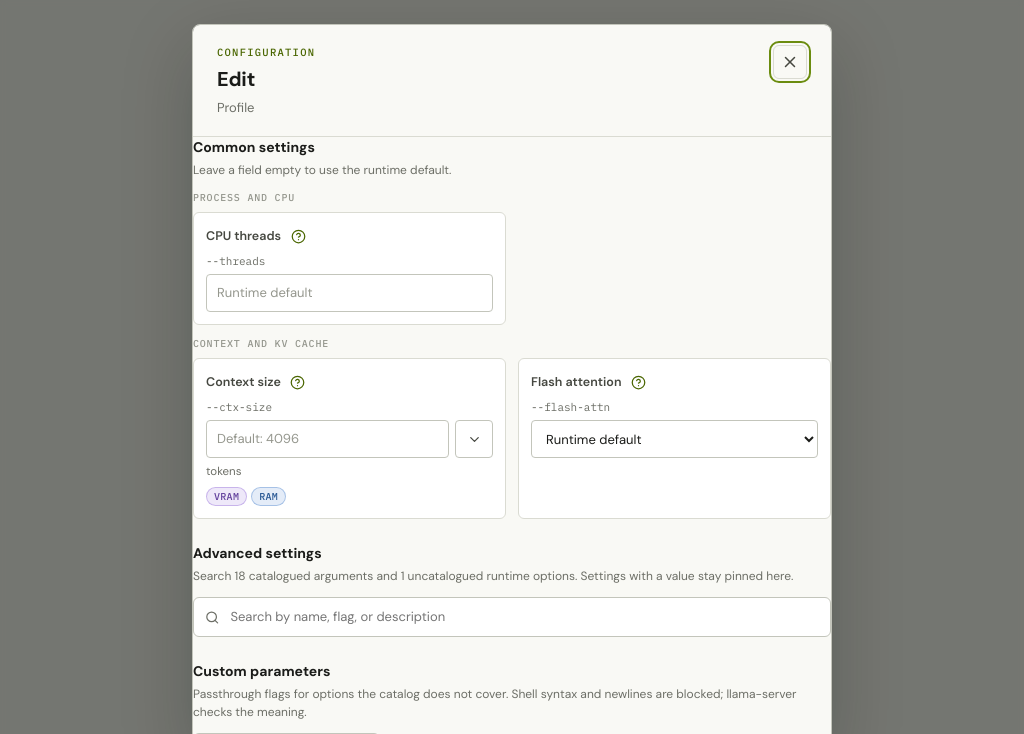
it: ProfileArgumentEditor › fills a size field from a menu of common values
Click the button named "Common values for Context size" at (474, 439), box top-left (455, 420), bottom-right (493, 458)
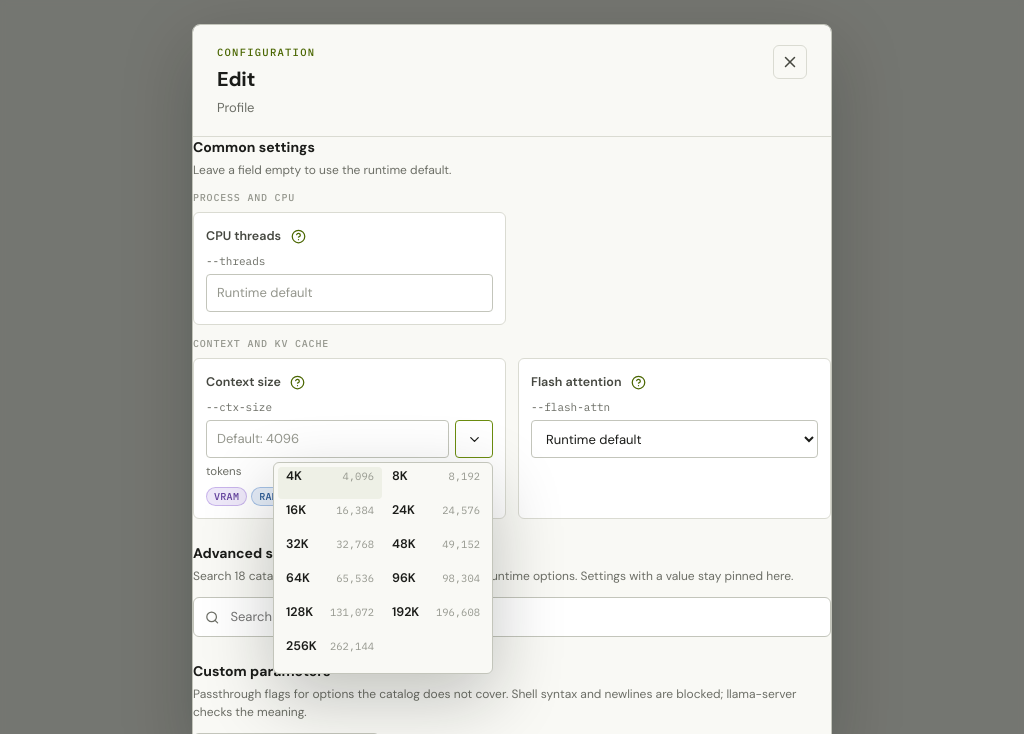
Click the menu item "32K 32,768" at (330, 551), box top-left (278, 535), bottom-right (382, 567)
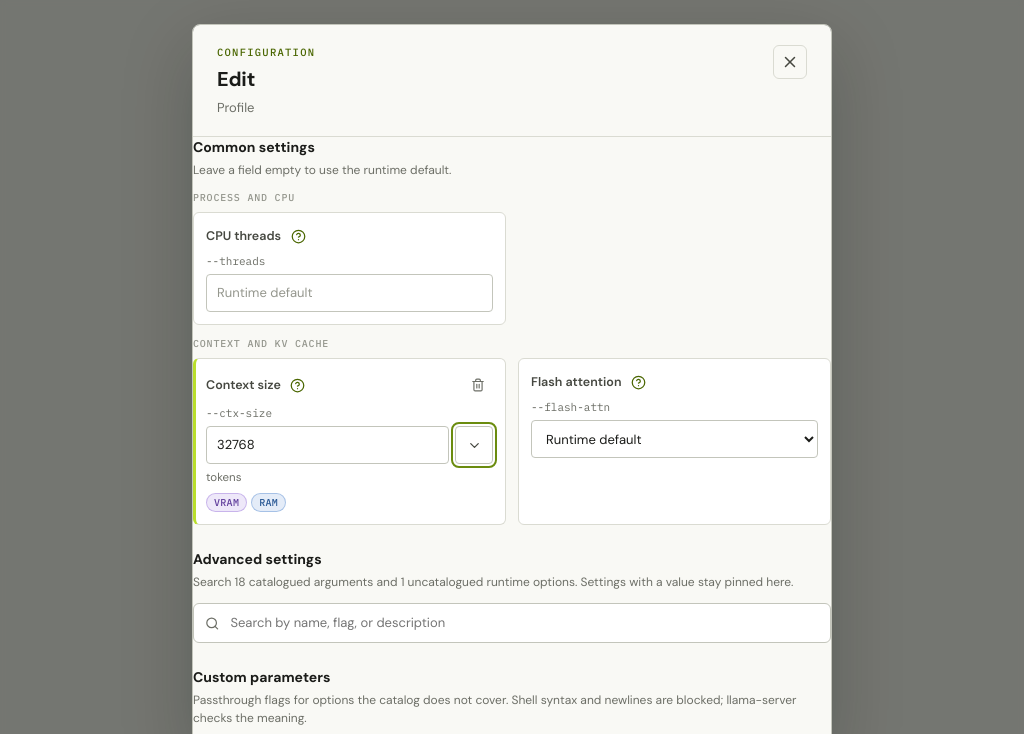
expect the field labelled "Context size" holds "32768": met, box top-left (206, 426), bottom-right (449, 464)
expect the menu is gone: met
Click the button named "Common values for Context size" at (474, 445), box top-left (455, 426), bottom-right (493, 464)
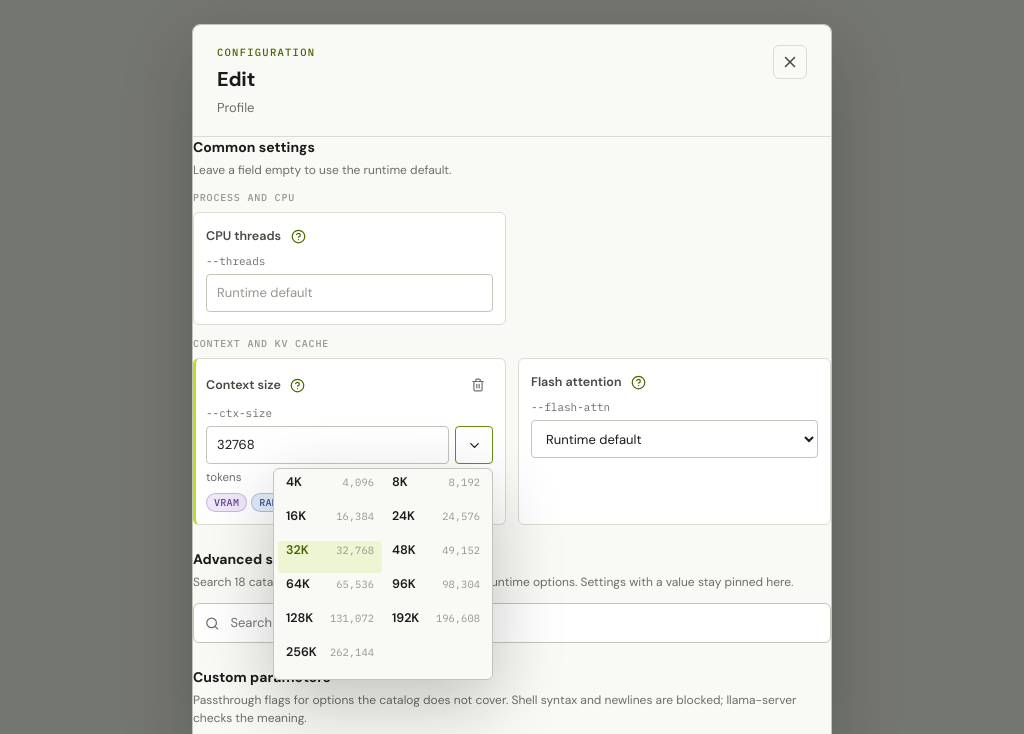
expect the menu item "32K 32,768" is checked: met
Press ArrowDown in the menu item "32K 32,768", box top-left (278, 541), bottom-right (382, 573)
Press Escape in the menu, box top-left (273, 468), bottom-right (493, 680)
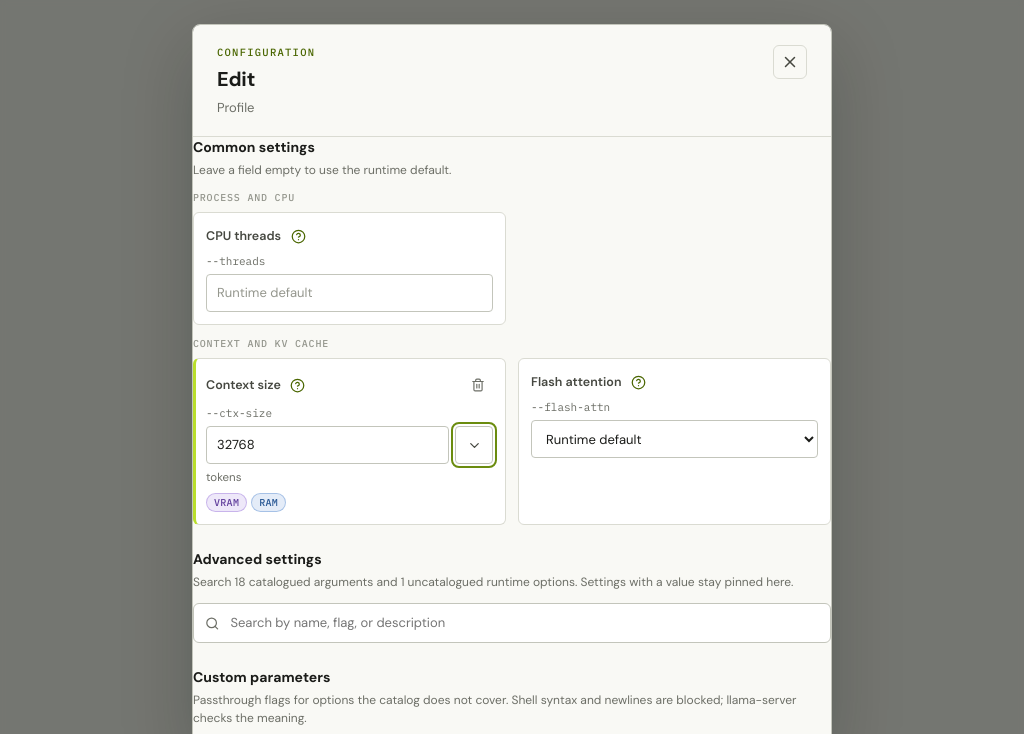
expect the menu is gone: met
